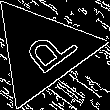P_SW: (9, 20, 75, 81)
